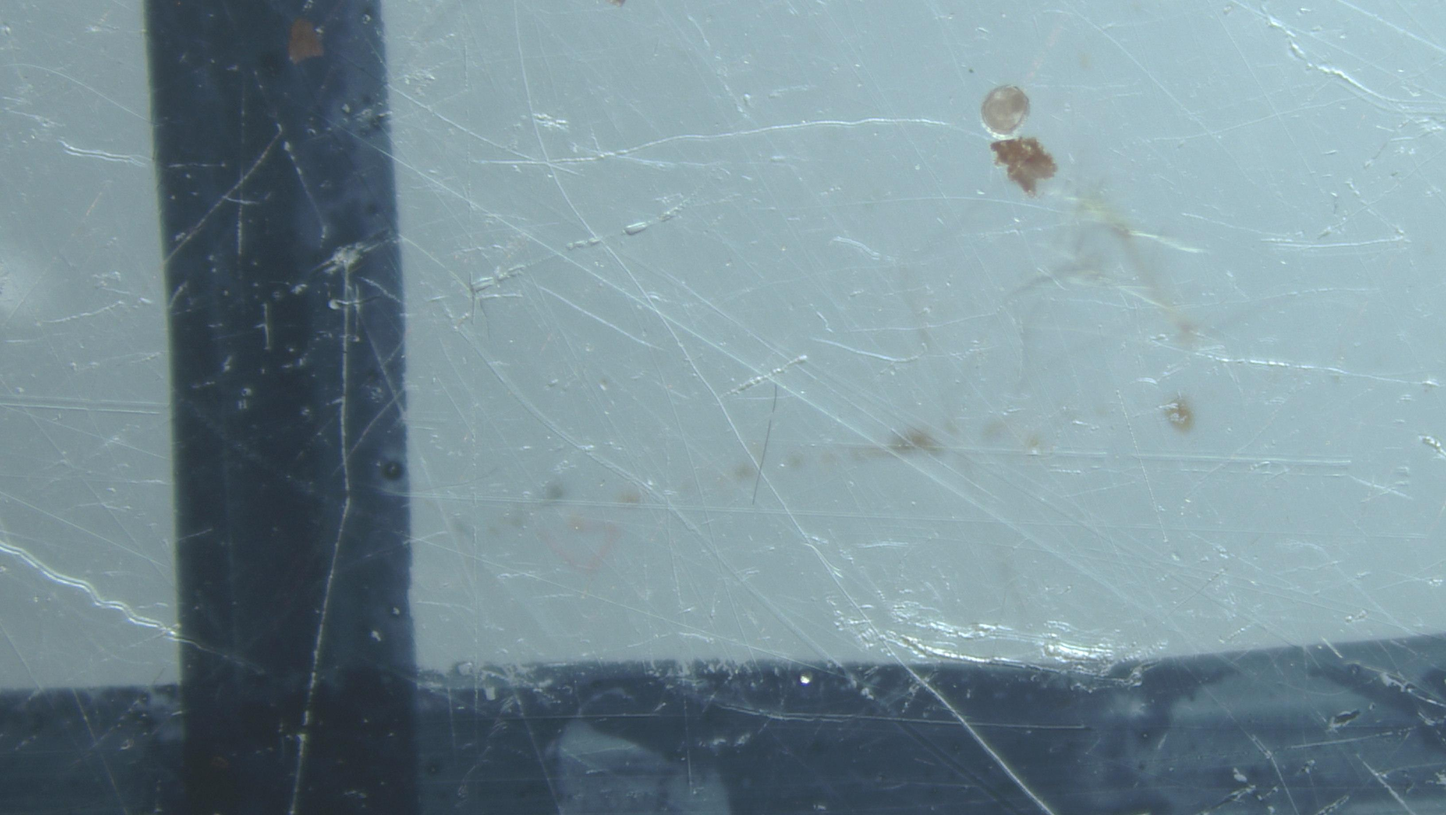live: (981, 86, 1030, 140)
